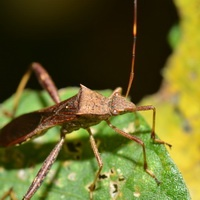insect: (130, 0, 178, 102)
